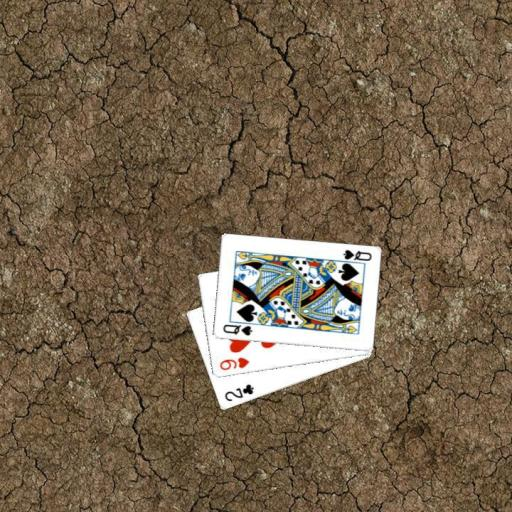2C: (221, 381, 255, 403)
9H: (216, 354, 250, 372)
QS: (220, 321, 254, 338), (340, 247, 373, 262)
